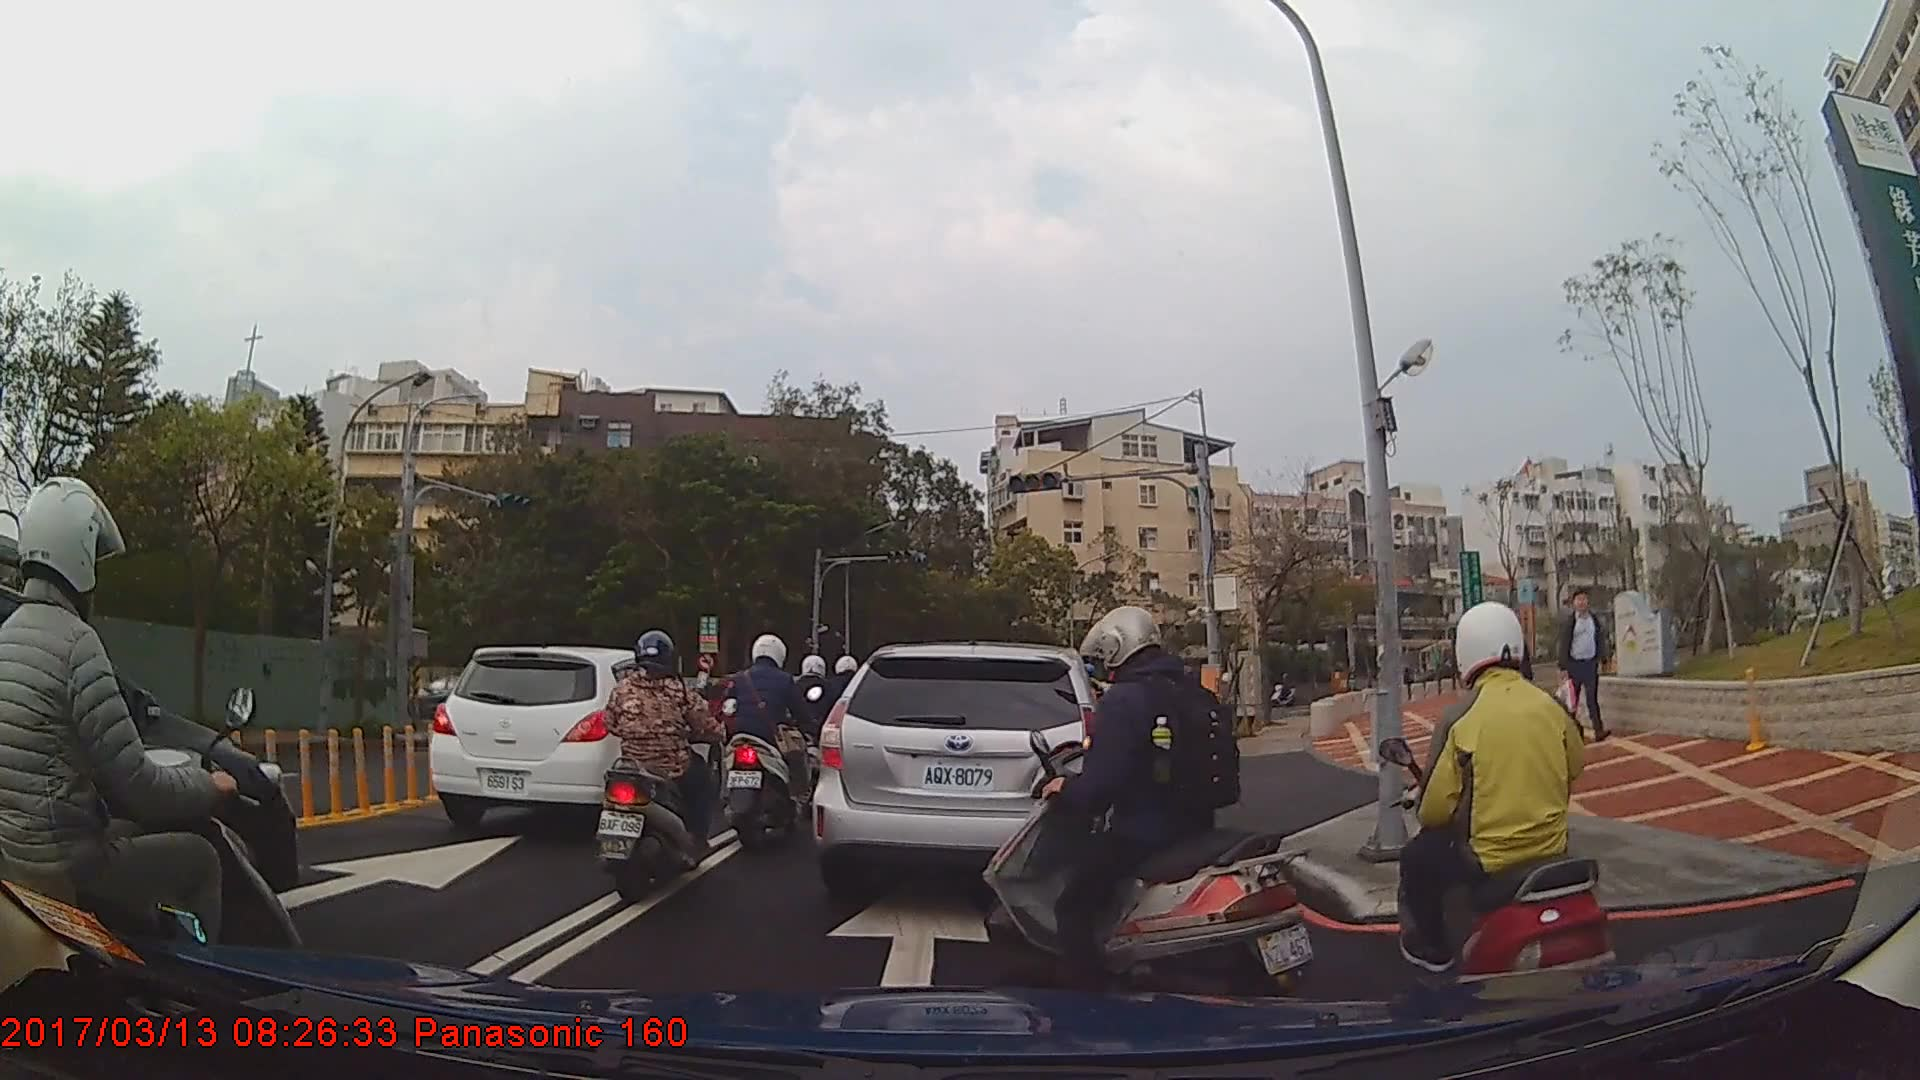pedestrian: (1563, 586, 1622, 744)
rider: (9, 471, 309, 1073), (980, 607, 1315, 1006), (1376, 596, 1615, 1038), (595, 628, 725, 906), (720, 631, 823, 849), (791, 655, 846, 802)
vehicle: (810, 639, 1118, 917), (425, 644, 723, 828), (411, 671, 500, 719)
